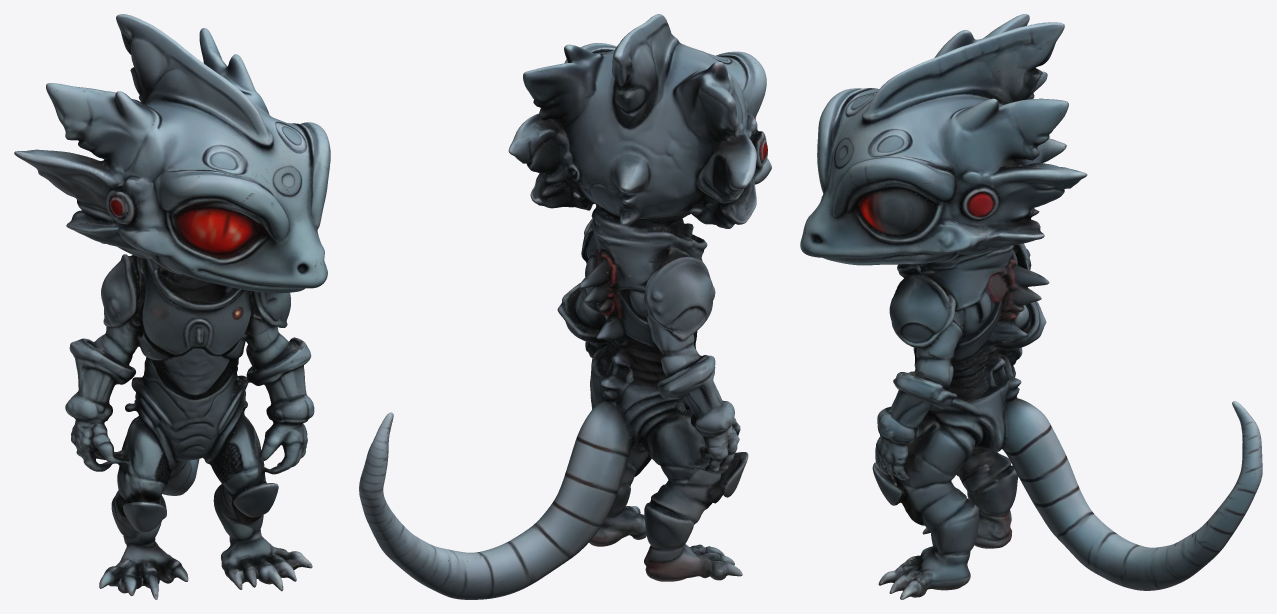
File: decepticon.glb
3 views of the same model, side by side, from view 1: azimuth 30°, elevation 25°; view 2: azimuth 150°, elevation 25°; view 3: azimuth 270°, elevation 25° (orthographic). The views are drawn at different scales.
Size of the model in its own units: 34692 by 65534 by 51790.
Materials: 1 (1 with a texture image).
